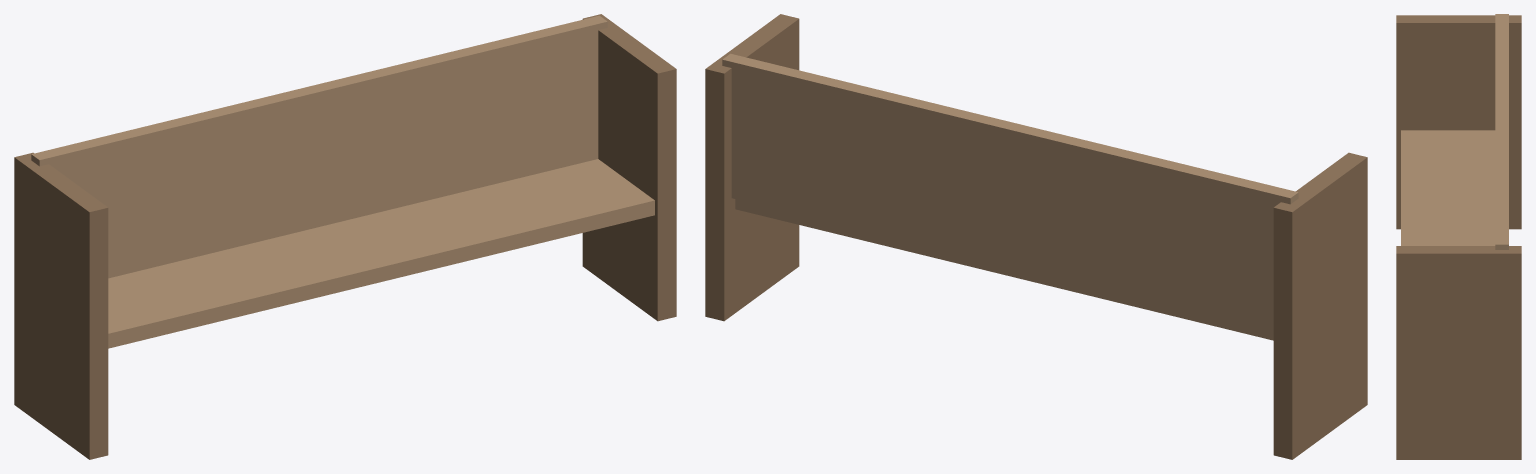
The model's file is pew.glb.
3 views of the same model, side by side, from view 1: azimuth 30°, elevation 25°; view 2: azimuth 150°, elevation 25°; view 3: azimuth 270°, elevation 25° (orthographic). The views are drawn at different scales.
Parts seen in each view (by area): view 1: pew; view 2: pew; view 3: pew.
Part boxes in pixels (box(x1,y1,x2,y2)): pew: box(14, 14, 676, 459); pew: box(705, 14, 1367, 459); pew: box(1396, 14, 1521, 459).
Bounding box in the file's own units: 2.48 × 1.02 × 0.5501.
